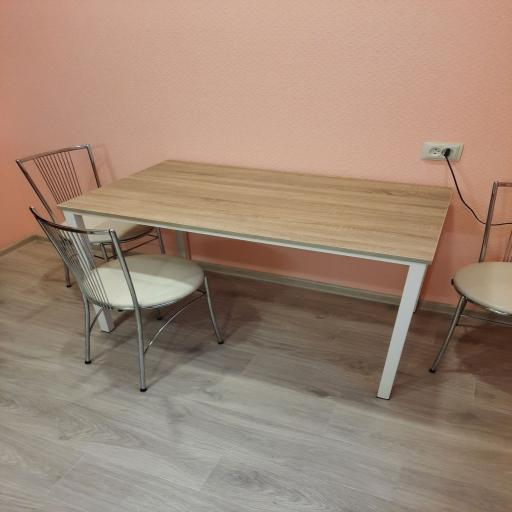bottle: (30, 207, 223, 391), (16, 144, 165, 287)
phone: (58, 160, 452, 399)
